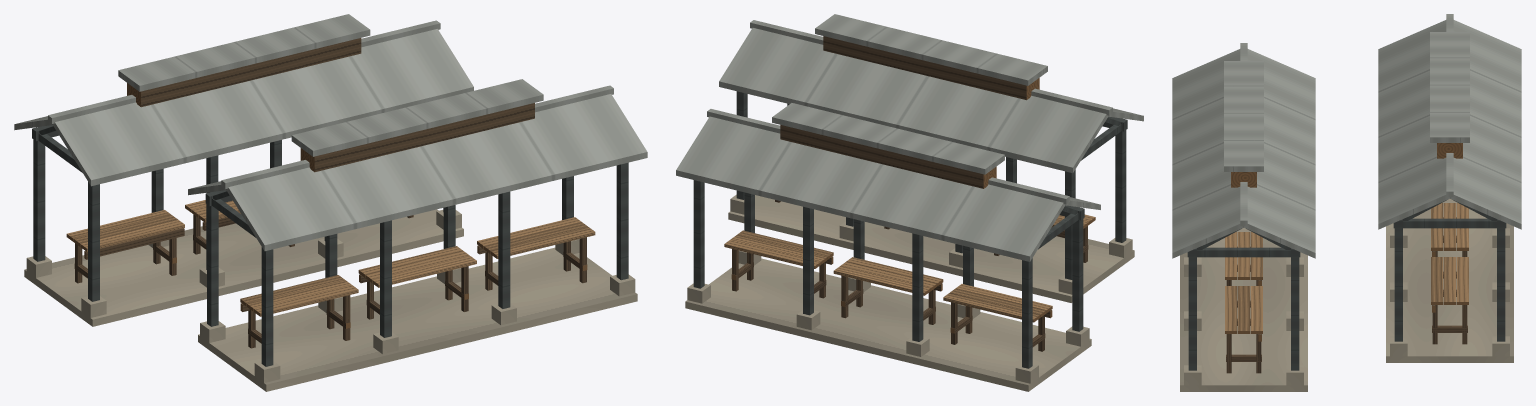
The model's file is hargeisa.glb.
3 renders of one model, left to right at view 1: azimuth 30°, elevation 25°; view 2: azimuth 150°, elevation 25°; view 3: azimuth 270°, elevation 25°, orthographic. The views are drawn at different scales.
Visible parts, largest first — view 1: hargeisa; view 2: hargeisa; view 3: hargeisa.
Part boxes in pixels (left/top/right/bottom): hargeisa: left=14, top=14, right=647, bottom=391; hargeisa: left=676, top=14, right=1143, bottom=391; hargeisa: left=1172, top=14, right=1521, bottom=391.
Bounding box in the file's own units: 5.72 × 2.5 × 4.09.
Materials: 1 (1 with a texture image).
